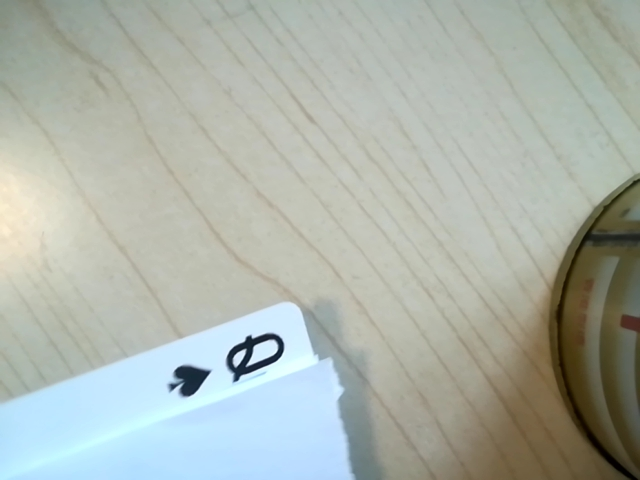ht q: (149, 322, 310, 404)
